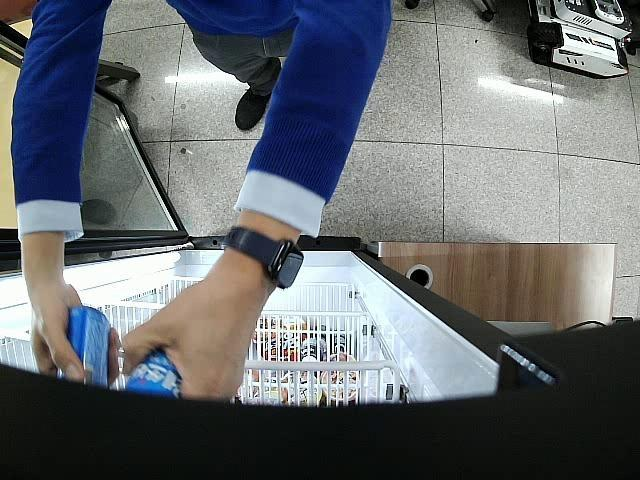15_letsbe: (68, 305, 110, 388), (125, 350, 181, 397)
